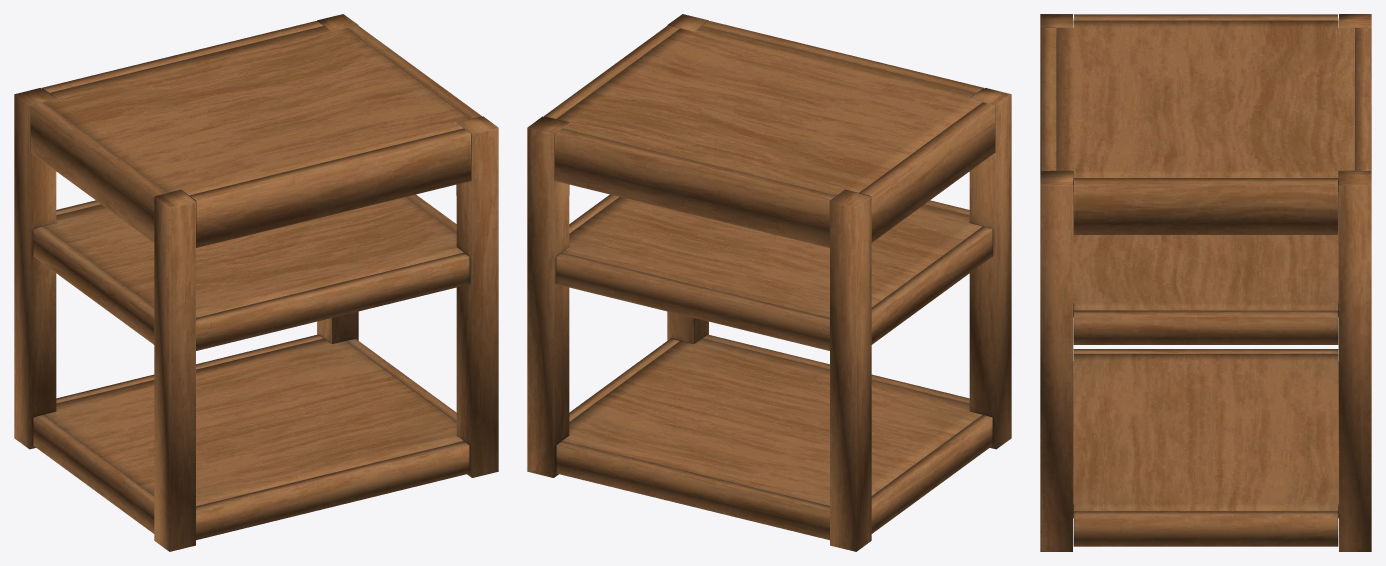
File: side_table_01.glb
3 views of the same model, side by side, from view 1: azimuth 30°, elevation 25°; view 2: azimuth 150°, elevation 25°; view 3: azimuth 270°, elevation 25° (orthographic). The views are drawn at different scales.
Visible parts, largest first — view 1: side_table_01; view 2: side_table_01; view 3: side_table_01.
Part boxes in pixels (x1=…): side_table_01: x1=14, y1=14, x2=498, y2=551; side_table_01: x1=527, y1=14, x2=1011, y2=551; side_table_01: x1=1040, y1=14, x2=1371, y2=551.
Bounding box in the file's own units: 0.5485 × 0.5507 × 0.4486.
1 material, 1 textured.
